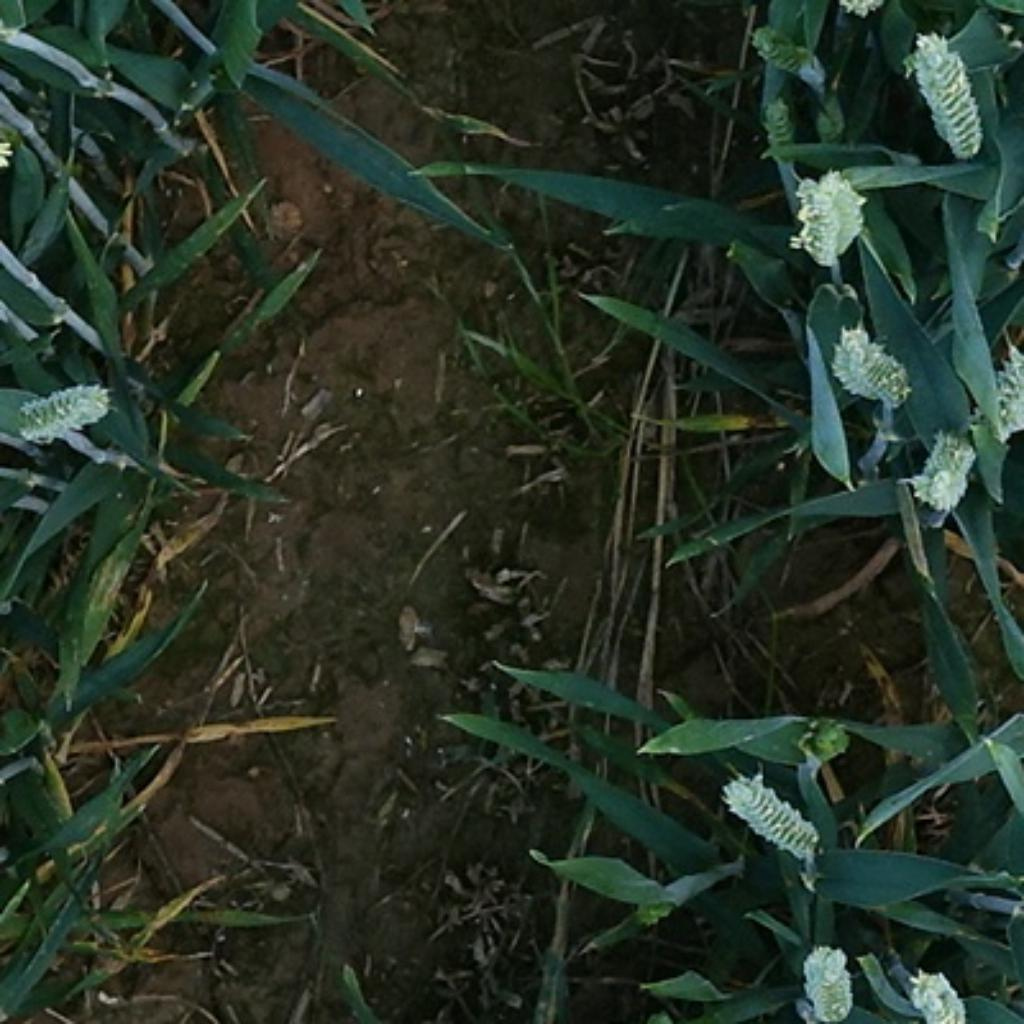0-0: (906, 29, 988, 158), (718, 772, 829, 860), (828, 315, 915, 407), (906, 422, 988, 517), (790, 171, 872, 265), (24, 383, 111, 446), (749, 20, 826, 84), (799, 944, 860, 1024), (980, 337, 1024, 432), (901, 971, 972, 1024), (752, 92, 798, 151)
